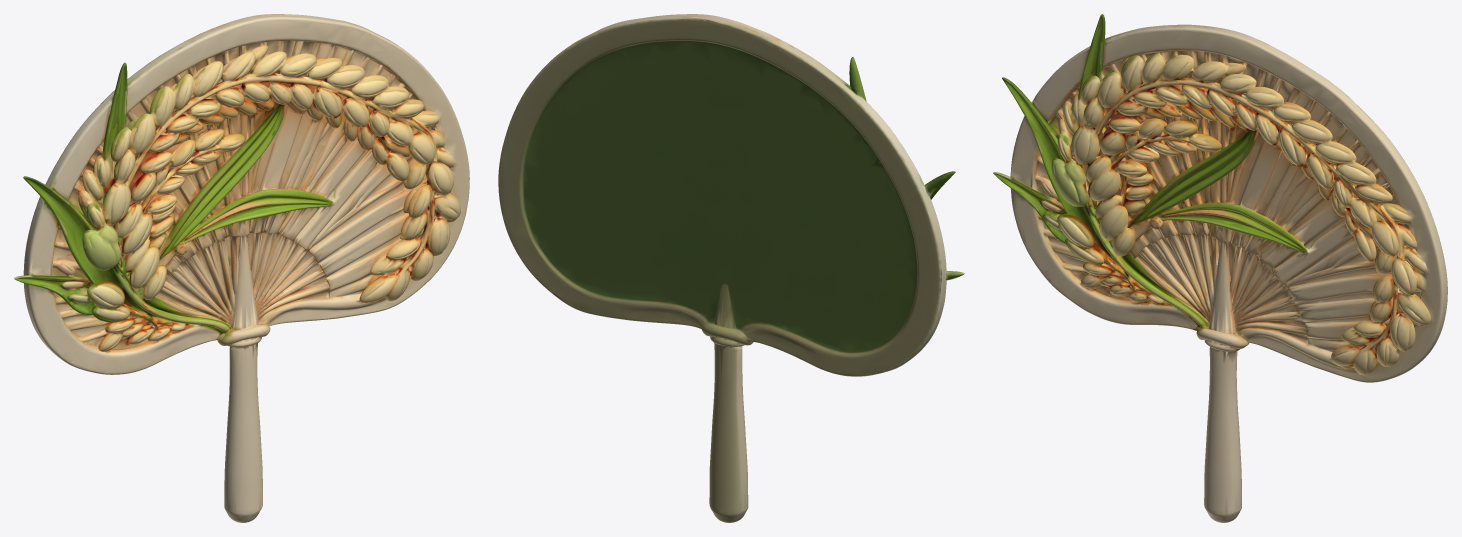
The model's file is award-13.glb.
3 renders of one model, left to right at view 1: azimuth 30°, elevation 25°; view 2: azimuth 150°, elevation 25°; view 3: azimuth 330°, elevation 25°, orthographic. The views are drawn at different scales.
Visible parts, largest first — view 1: node_0; view 2: node_0; view 3: node_0.
Part boxes in pixels (bbox=[...]): node_0: bbox=[14, 14, 469, 522]; node_0: bbox=[498, 14, 964, 522]; node_0: bbox=[993, 14, 1447, 522].
Bounding box in the file's own units: 1.04 × 1.08 × 0.077.
1 material, 1 textured.
